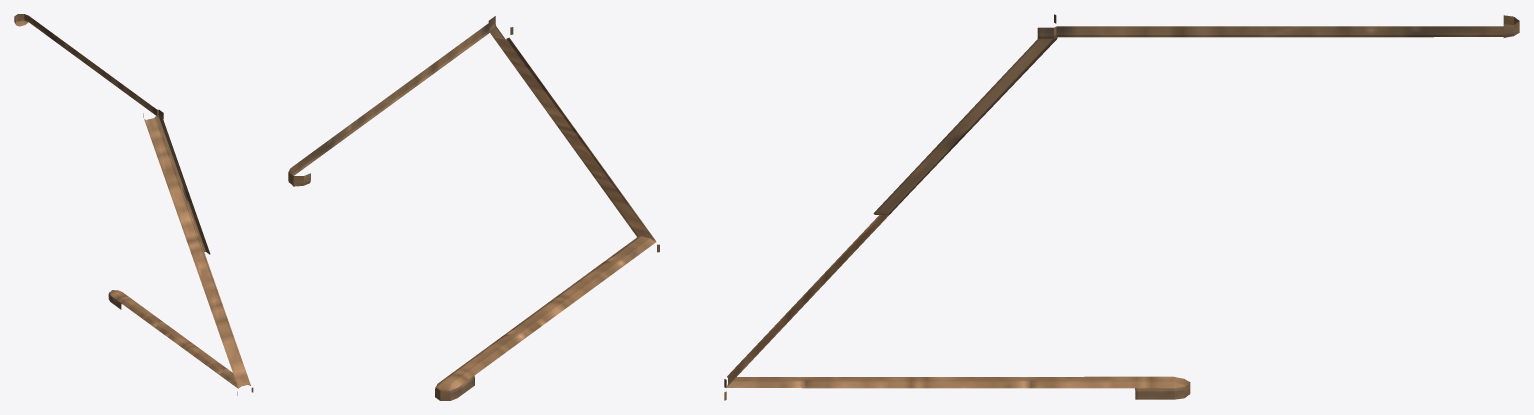
The model's file is mirror.obj.
3 renders of one model, left to right at view 1: azimuth 30°, elevation 25°; view 2: azimuth 150°, elevation 25°; view 3: azimuth 270°, elevation 25°, orthographic. The views are drawn at different scales.
Size of the model in its own units: 0.0792 by 1 by 1.99.
